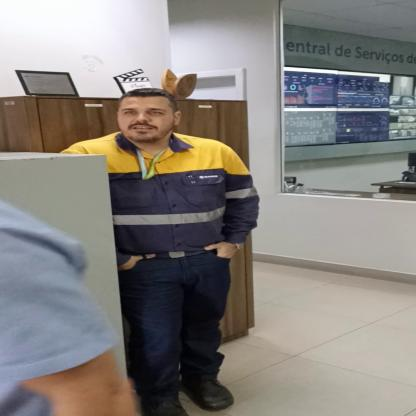Operacional: (67, 138, 261, 249)
